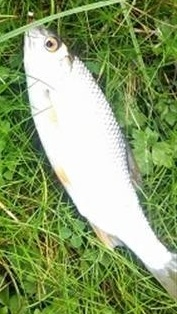Rutilus rutilus: (20, 20, 177, 294)
